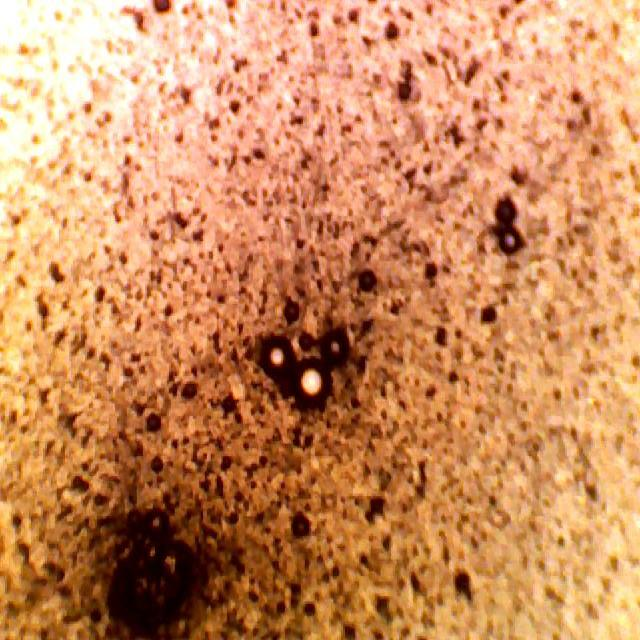bead: (285, 354, 339, 418), (262, 334, 294, 382)
fragment: (90, 508, 212, 640)
